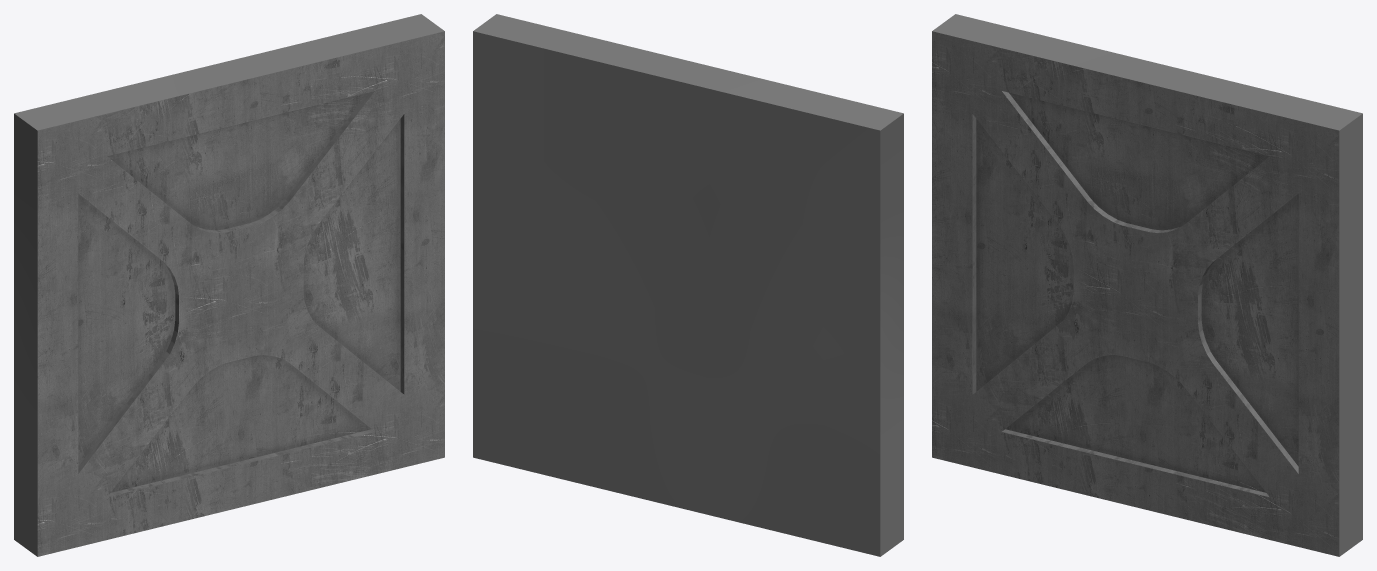
The model's file is reinforced_metal_wall2.glb.
The picture shows the model from 3 angles, left to right: view 1: azimuth 30°, elevation 25°; view 2: azimuth 150°, elevation 25°; view 3: azimuth 330°, elevation 25°; orthographic projection.
Parts seen in each view (by area): view 1: reinforced_panel_high; view 2: reinforced_panel_high; view 3: reinforced_panel_high.
Part boxes in pixels (x1,y1,x2,y2): reinforced_panel_high: (14, 14, 444, 556); reinforced_panel_high: (473, 14, 903, 556); reinforced_panel_high: (932, 14, 1362, 556).
Size of the model in its own units: 2 by 2 by 0.2001.
Materials: 1 (1 with a texture image).
